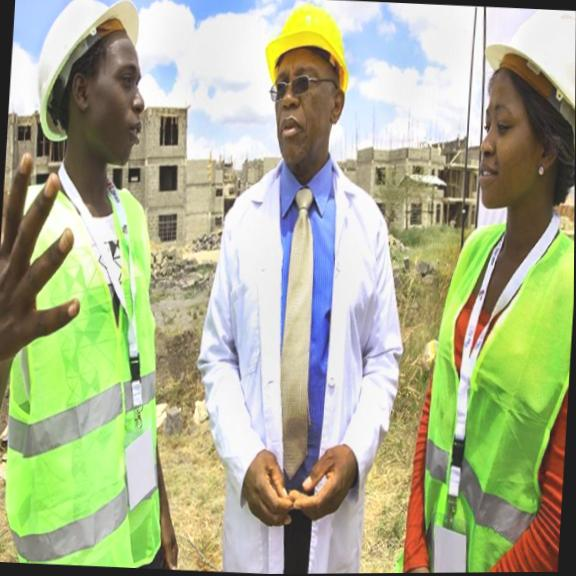no_safety_vest: (215, 166, 376, 543)
safety_vest: (413, 218, 574, 573), (14, 198, 152, 568)
